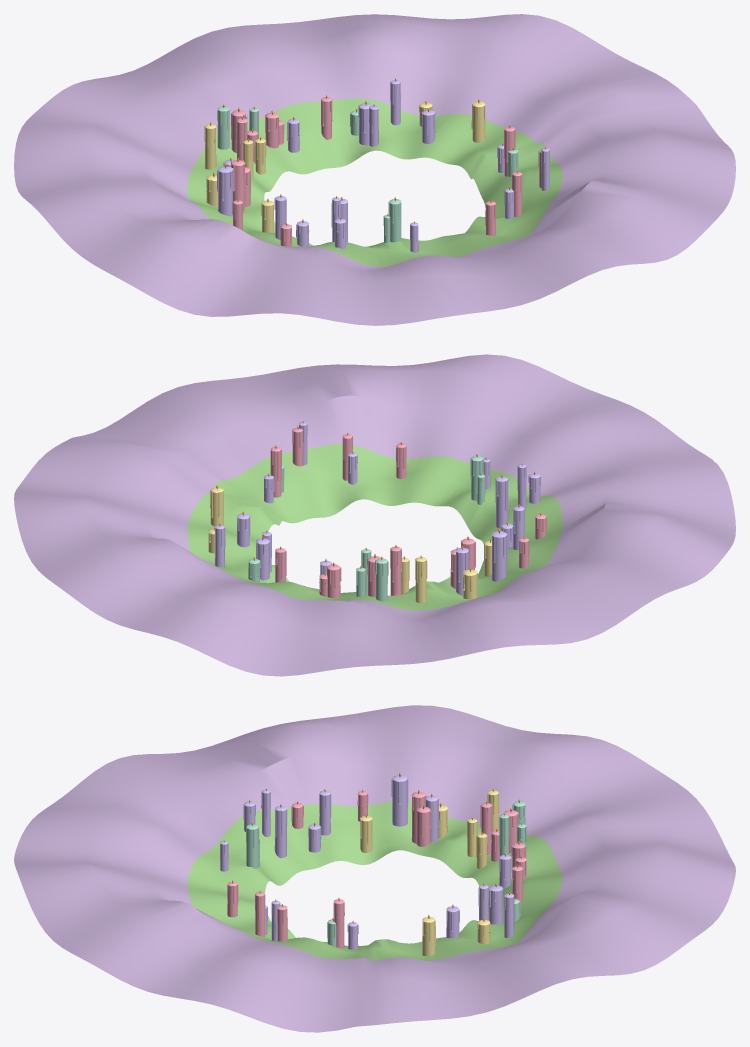
The model's file is Lake_Backdrop.fbx.
The picture shows the model from 3 angles, top to bottom: view 1: azimuth 30°, elevation 25°; view 2: azimuth 150°, elevation 25°; view 3: azimuth 270°, elevation 25°; orthographic projection.
Parts seen in each view (by area): view 1: Lake_Backdrop; view 2: Lake_Backdrop; view 3: Lake_Backdrop.
Part boxes in pixels (<box>): Lake_Backdrop: <box>14,14,735,325</box>; Lake_Backdrop: <box>14,354,735,676</box>; Lake_Backdrop: <box>14,705,735,1032</box>.
Bounding box in the file's own units: 300 × 36.38 × 300.
